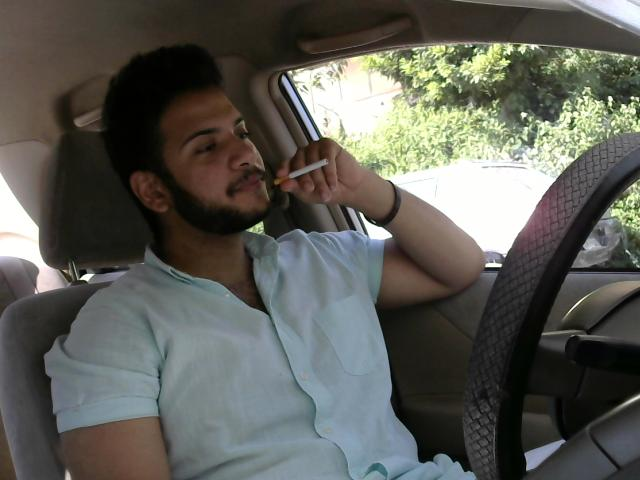Smoking: (274, 158, 329, 191)
